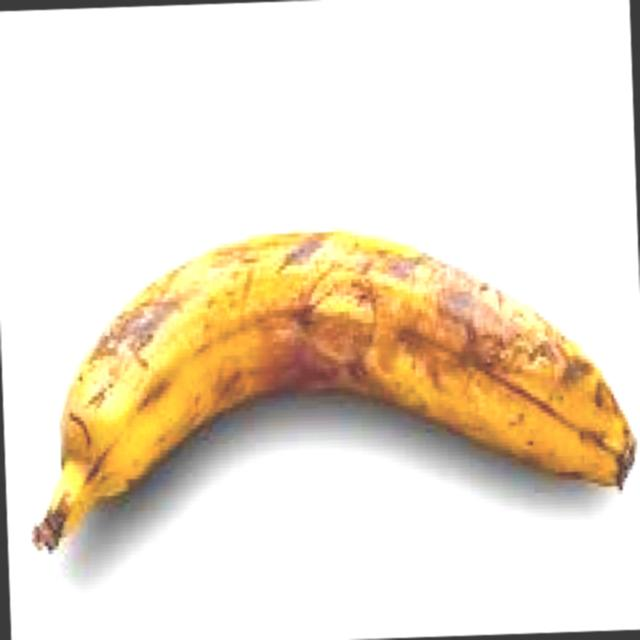Overripe: (0, 173, 640, 619)
